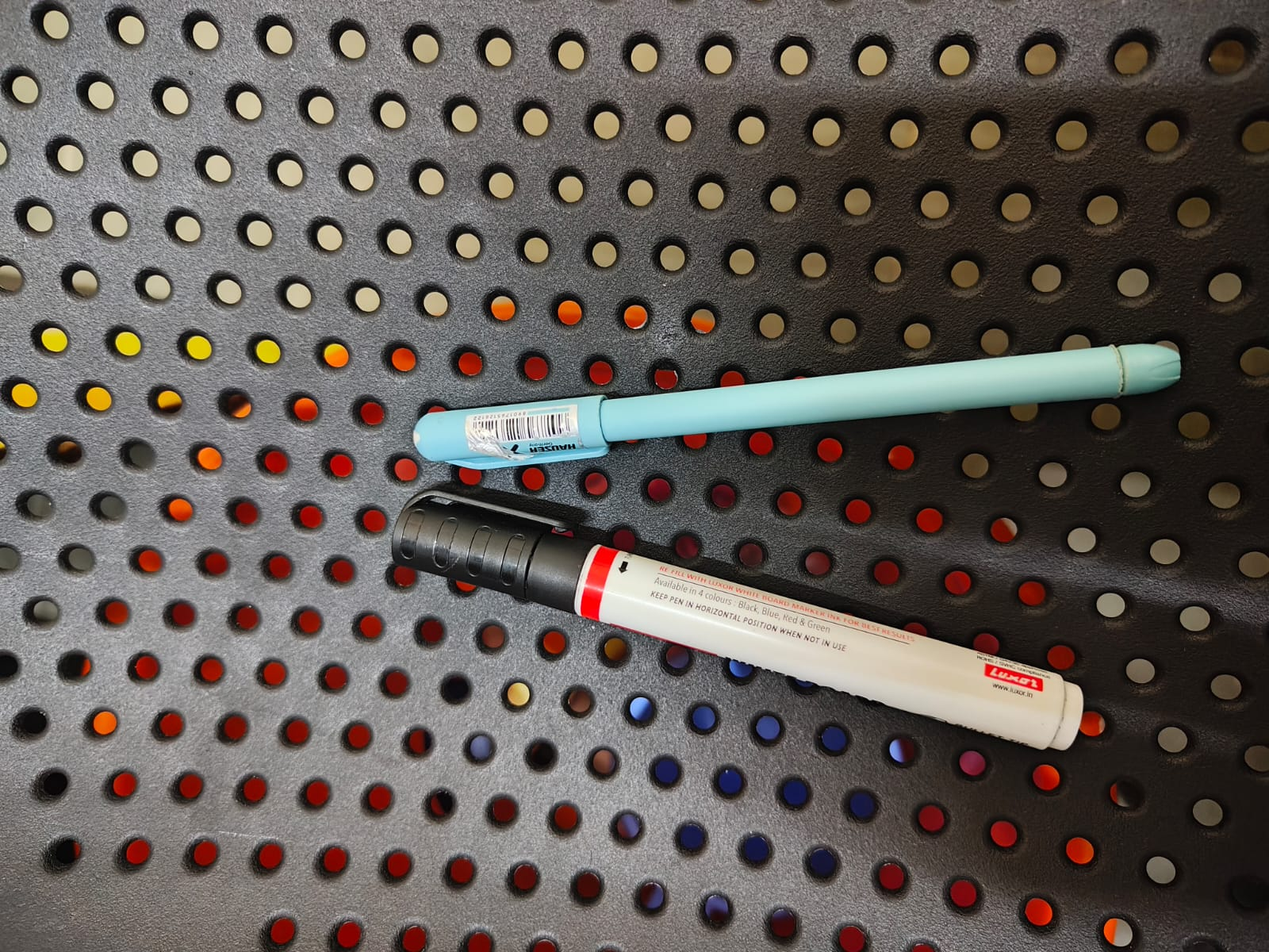case: (382, 496, 1092, 774)
pen: (399, 321, 1220, 475)
